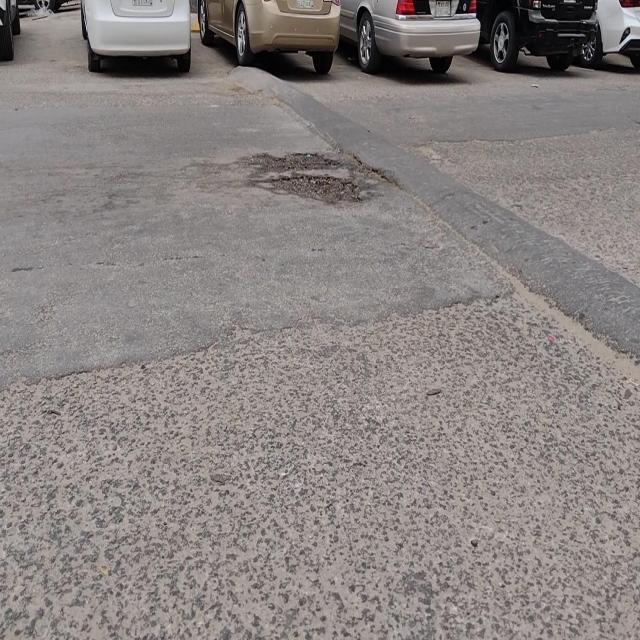Pothole: (273, 176, 362, 204), (248, 153, 341, 169)
